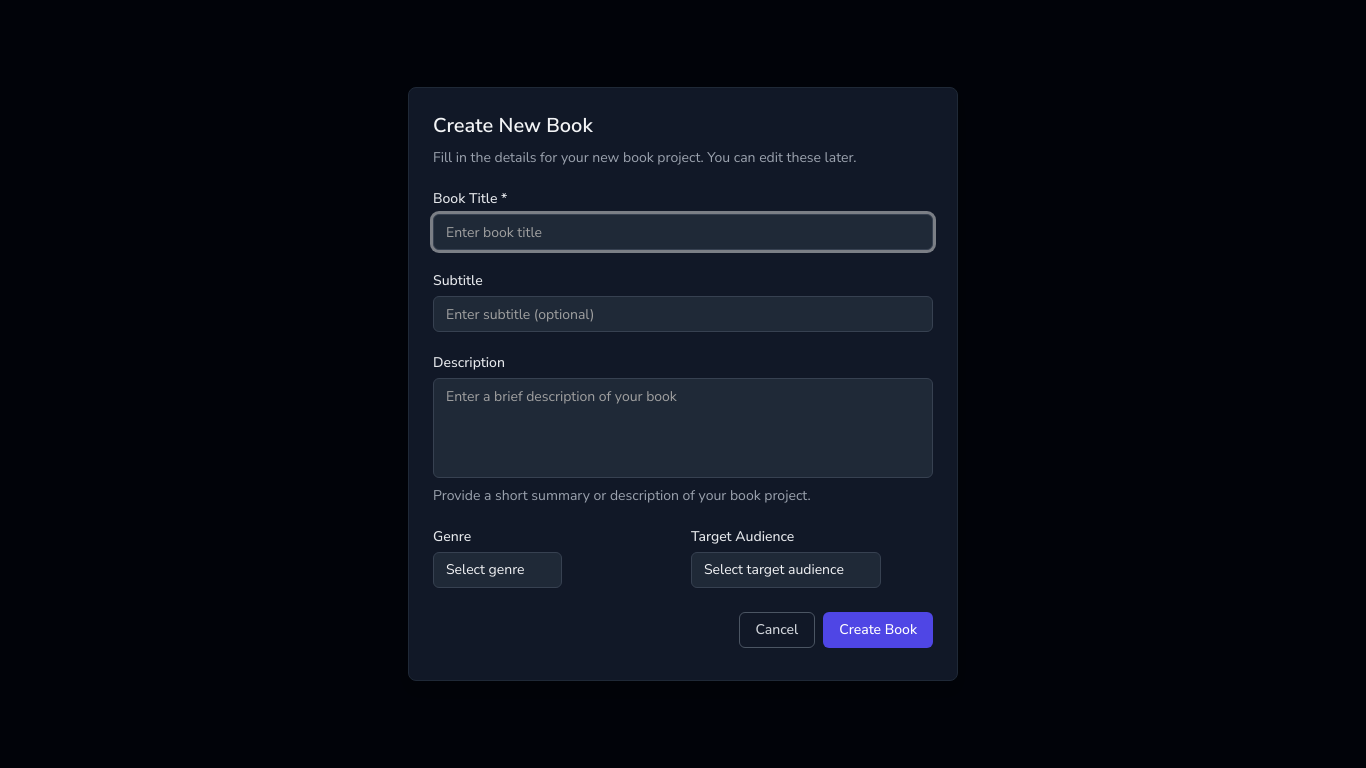
Scenario: BookCreationWizard › Validation Tests › clears errors on correction
// Trigger validation error
Click the button "Create Book". click: (878, 630)
box: [823, 612, 933, 648]
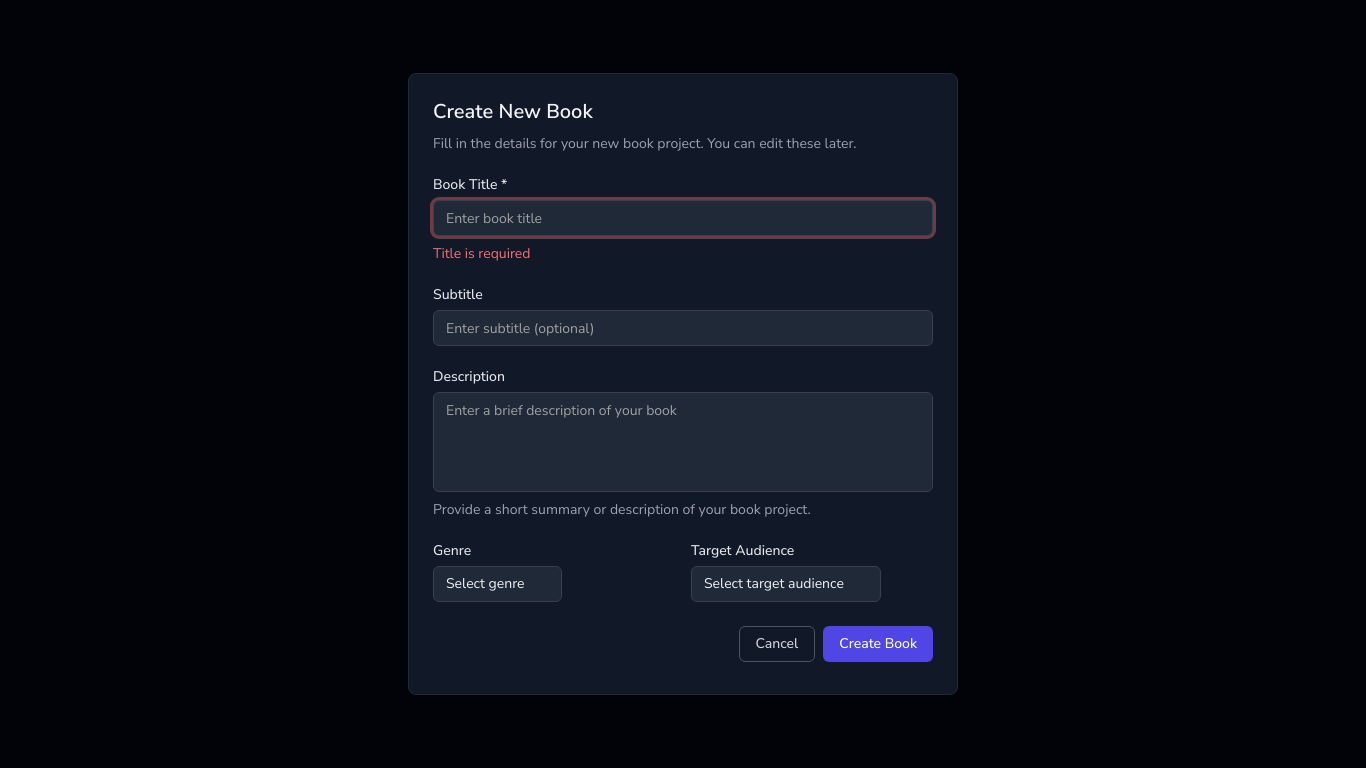
Check: the text "Title is required" is shown, box [433, 244, 530, 263]
// Correct the error
Type "Valid Title" into the field labelled "Book Title *". click: (683, 218)
box: [433, 200, 933, 236]
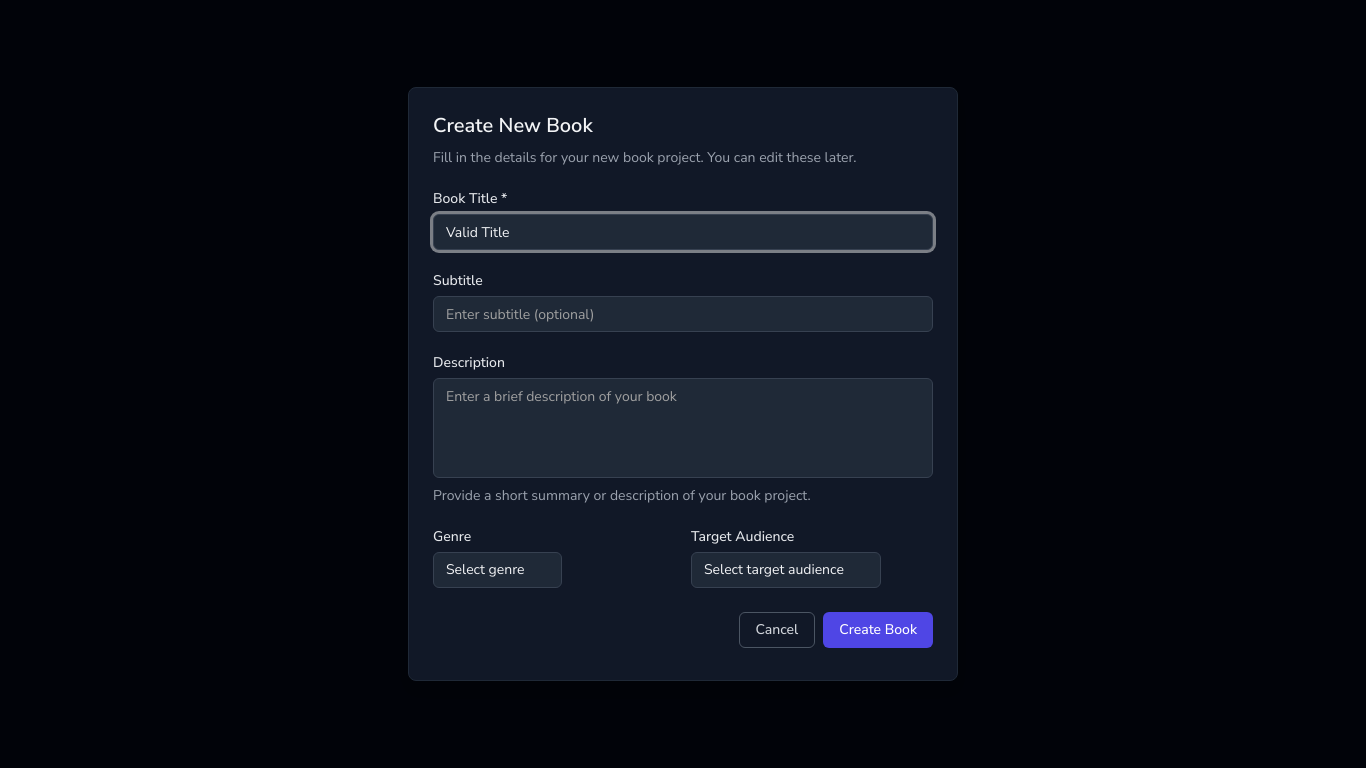
Check: the text "Title is required" is gone
